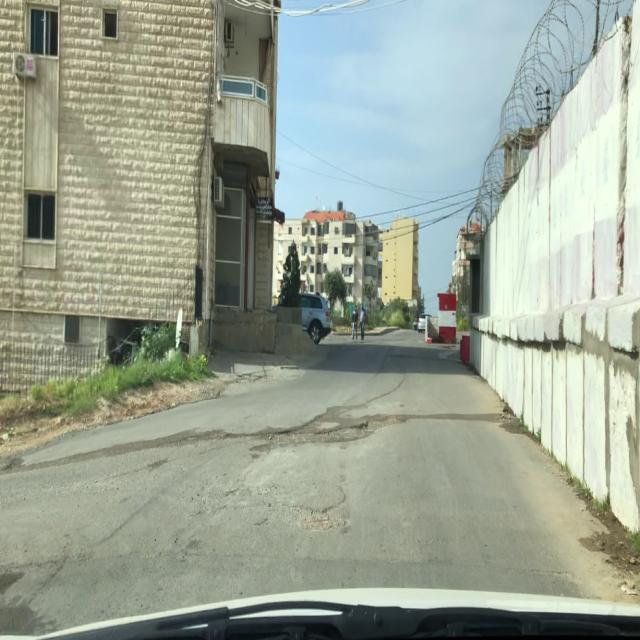Pothole: (352, 413, 408, 434)
